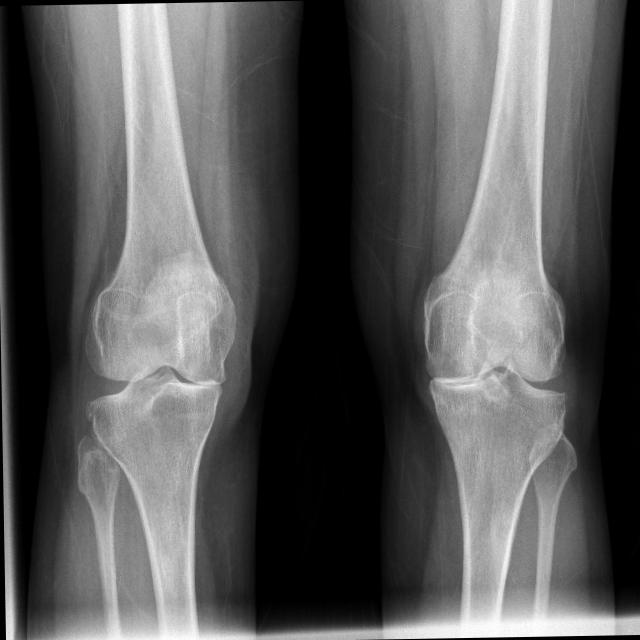Knee: (85, 296, 238, 452), (418, 304, 569, 439)
